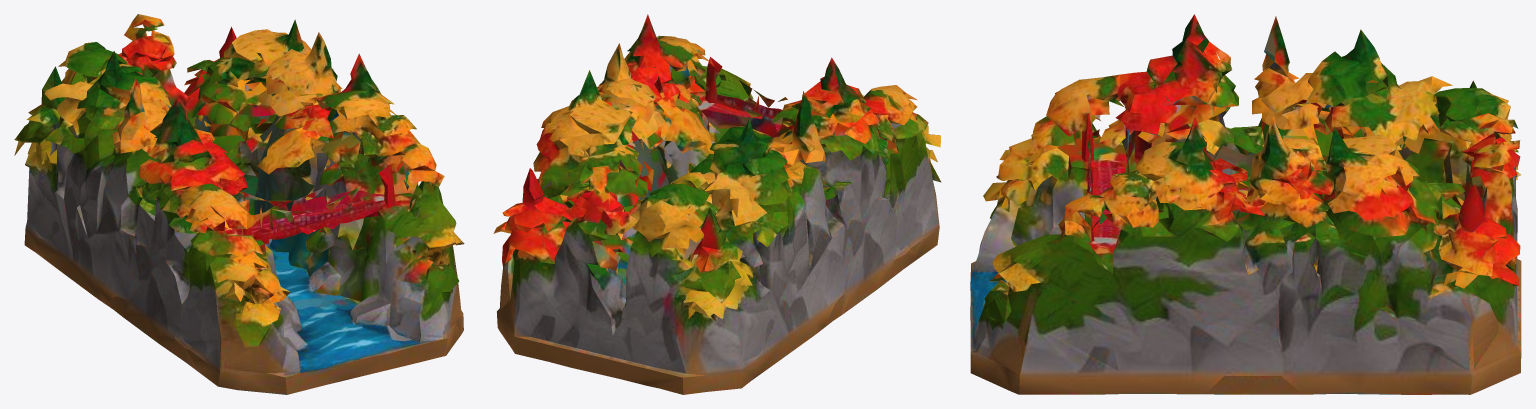
File: dakigaeri-gorge.glb
3 renders of one model, left to right at view 1: azimuth 30°, elevation 25°; view 2: azimuth 150°, elevation 25°; view 3: azimuth 270°, elevation 25°, orthographic. The views are drawn at different scales.
Parts seen in each view (by area): view 1: logan-textured.obj; view 2: logan-textured.obj; view 3: logan-textured.obj.
Boxes of the visible parts, x1,y1,x2,y2 form: logan-textured.obj: (14,14,464,394); logan-textured.obj: (493,14,941,394); logan-textured.obj: (970,14,1521,394).
Size of the model in its own units: 0.6018 by 0.5285 by 1.
Materials: 1 (1 with a texture image).
